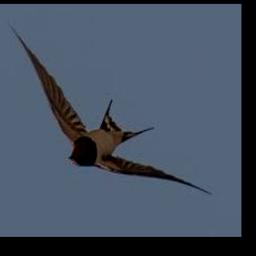Swallow: (8, 23, 213, 195)
